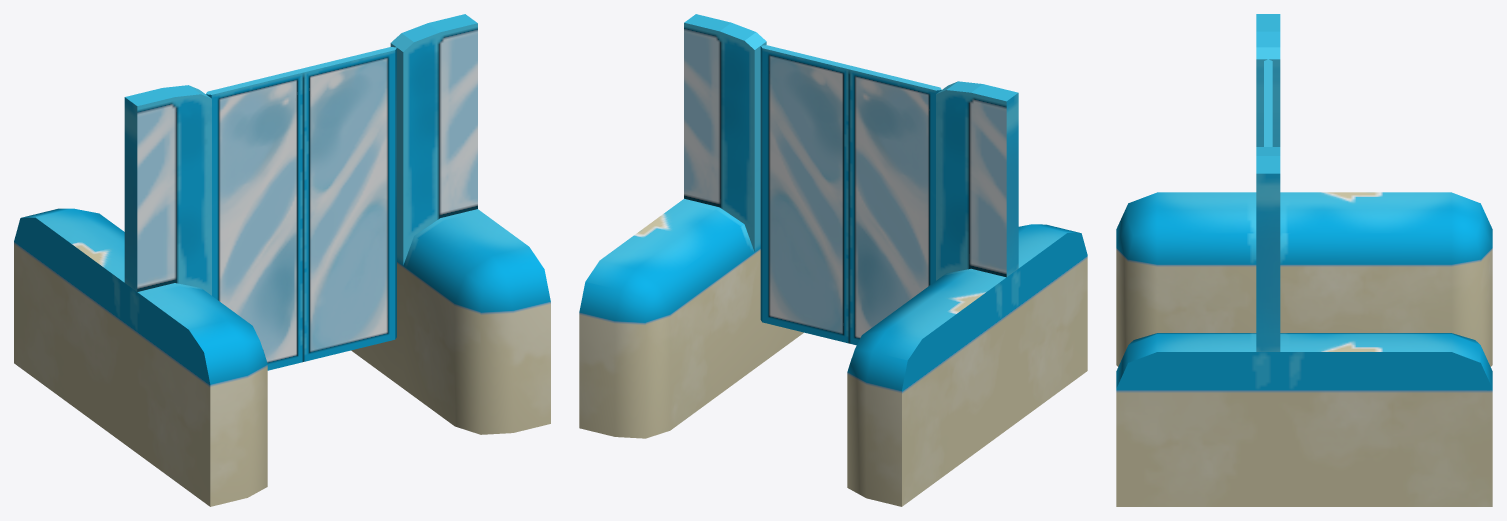
The model's file is portique.fbx.
3 renders of one model, left to right at view 1: azimuth 30°, elevation 25°; view 2: azimuth 150°, elevation 25°; view 3: azimuth 270°, elevation 25°, orthographic. The views are drawn at different scales.
Parts seen in each view (by area): view 1: portique, porte_02, porte_01; view 2: portique, porte_02, porte_01; view 3: portique.
Boxes of the visible parts, bbox=[...] form: portique: bbox=[14, 14, 550, 506]; porte_02: bbox=[299, 47, 396, 361]; porte_01: bbox=[206, 69, 303, 370]; portique: bbox=[579, 14, 1087, 506]; porte_02: bbox=[760, 45, 852, 343]; porte_01: bbox=[849, 66, 941, 345]; portique: bbox=[1116, 14, 1492, 506].
Bounding box in the file's own units: 1 × 0.9768 × 1.
